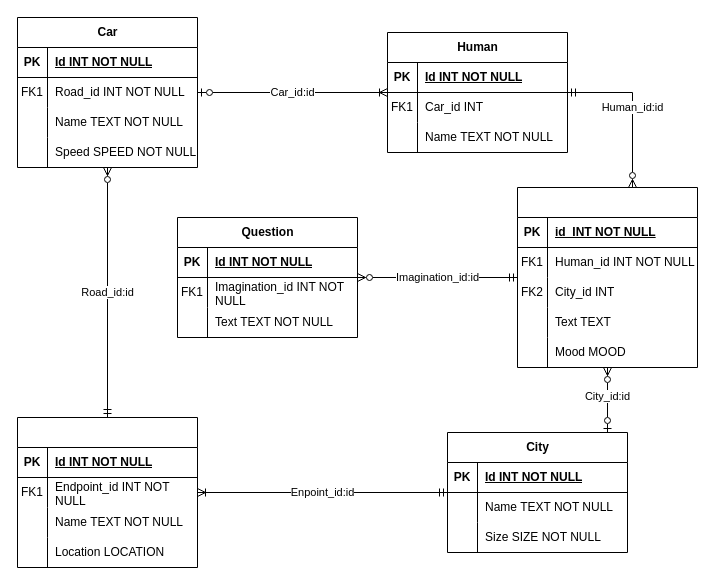
The diagram is 715 pixels wide and 585 high, and some of its shapes have lost their labels. The box of each missing label's shape, as (x1, y1, x2, y2) in pixels:
Imagination: (516, 186, 698, 368)
Road: (16, 416, 198, 568)
